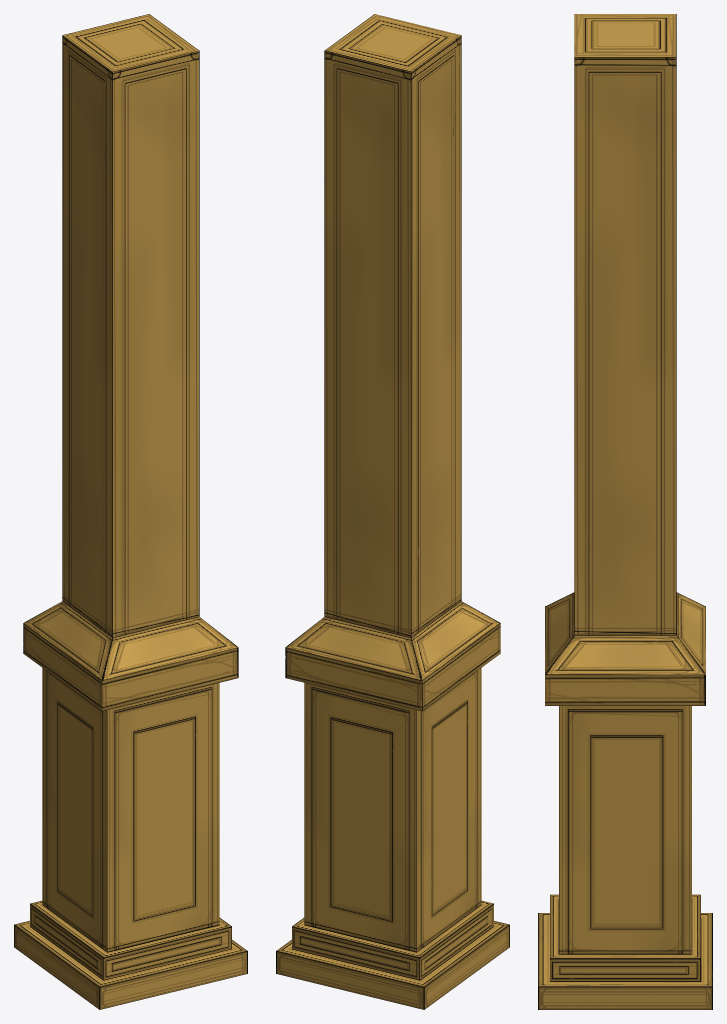
Rendered from column.fbx.
3 renders of one model, left to right at view 1: azimuth 30°, elevation 25°; view 2: azimuth 150°, elevation 25°; view 3: azimuth 270°, elevation 25°, orthographic. The views are drawn at different scales.
Visible parts, largest first — view 1: Plane; view 2: Plane; view 3: Plane.
Boxes of the visible parts, x1,y1,x2,y2 form: Plane: (14,14,247,1009); Plane: (276,14,509,1009); Plane: (538,14,712,1009).
Bounding box in the file's own units: 37.56 × 222 × 37.56.
